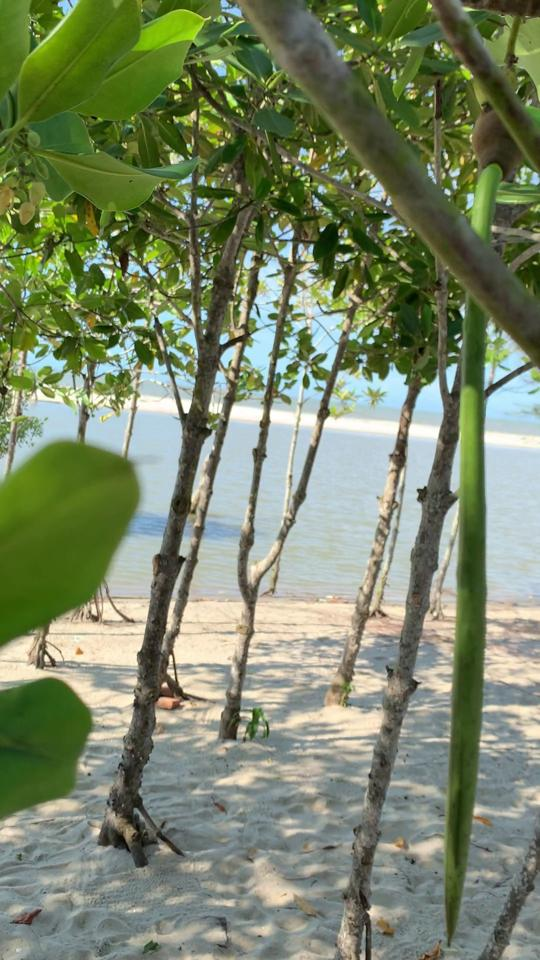setengah matang: (424, 89, 534, 949)
